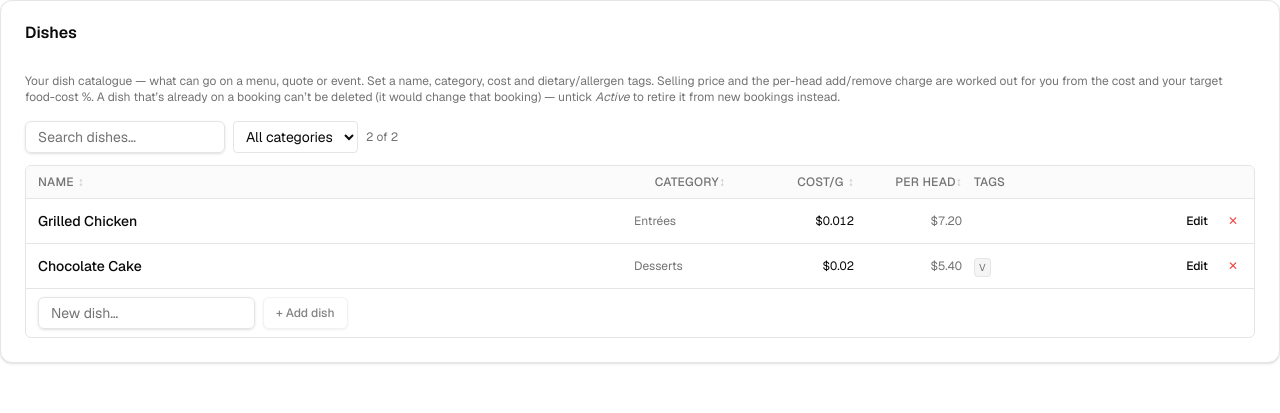
it: DishesSettings › surfaces the backend guard message when a delete is rejected
This screenshot has width=1280, height=413.
Click the button named "Delete Grilled Chicken" at (1233, 221), box [1224, 213, 1242, 229]
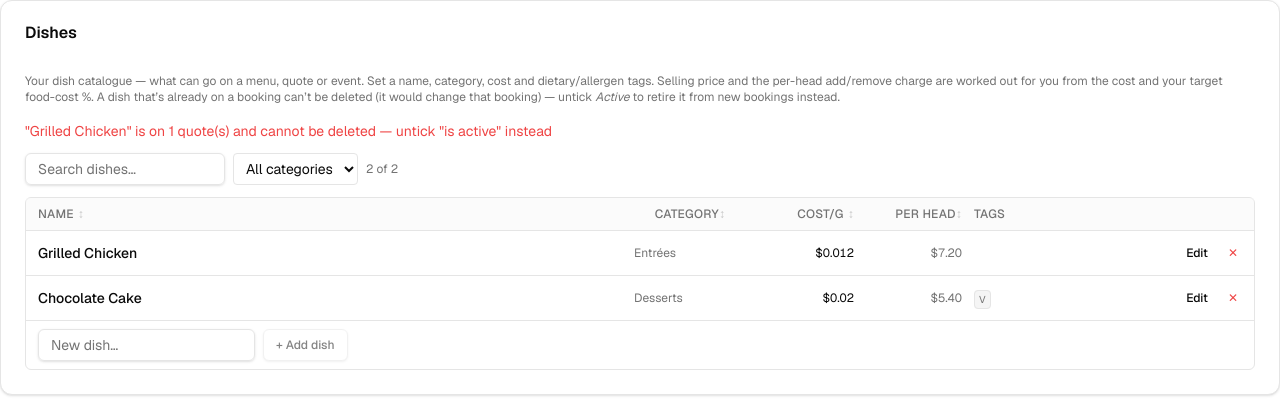
Result: the message shows "cannot be deleted" at [25, 122, 552, 140]
